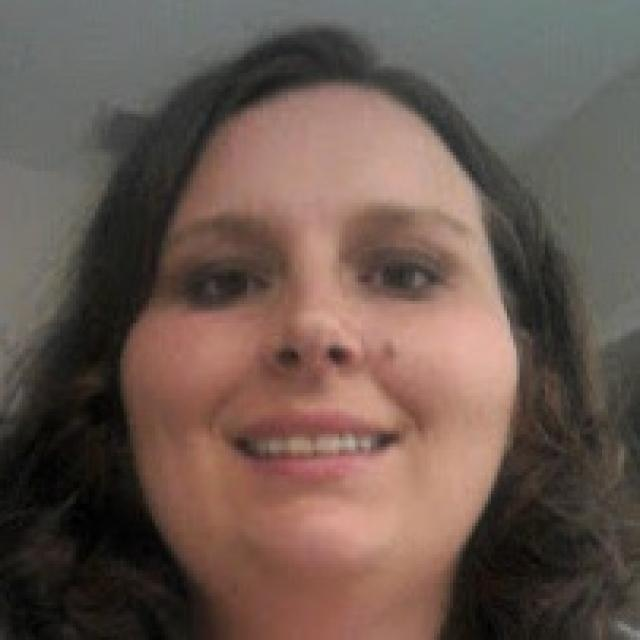Normal: (118, 78, 522, 592)
